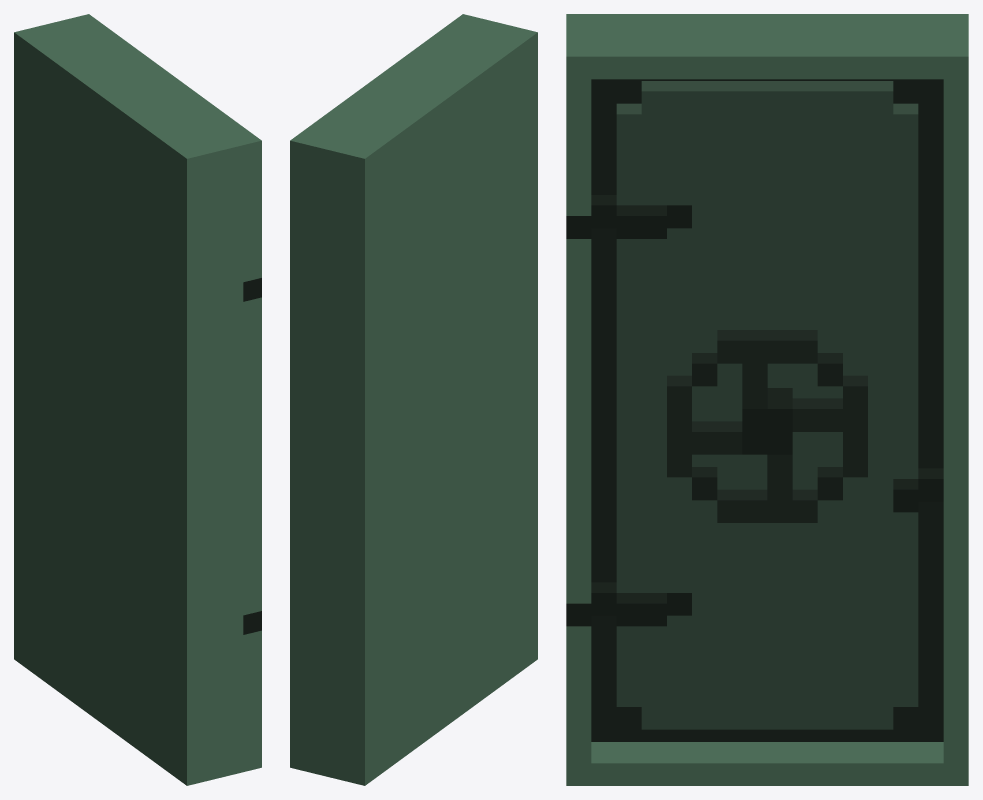
File: door_4.obj
3 renders of one model, left to right at view 1: azimuth 30°, elevation 25°; view 2: azimuth 150°, elevation 25°; view 3: azimuth 270°, elevation 25°, orthographic. The views are drawn at different scales.
Size of the model in its own units: 5 by 32 by 16.
1 material, 1 textured.
